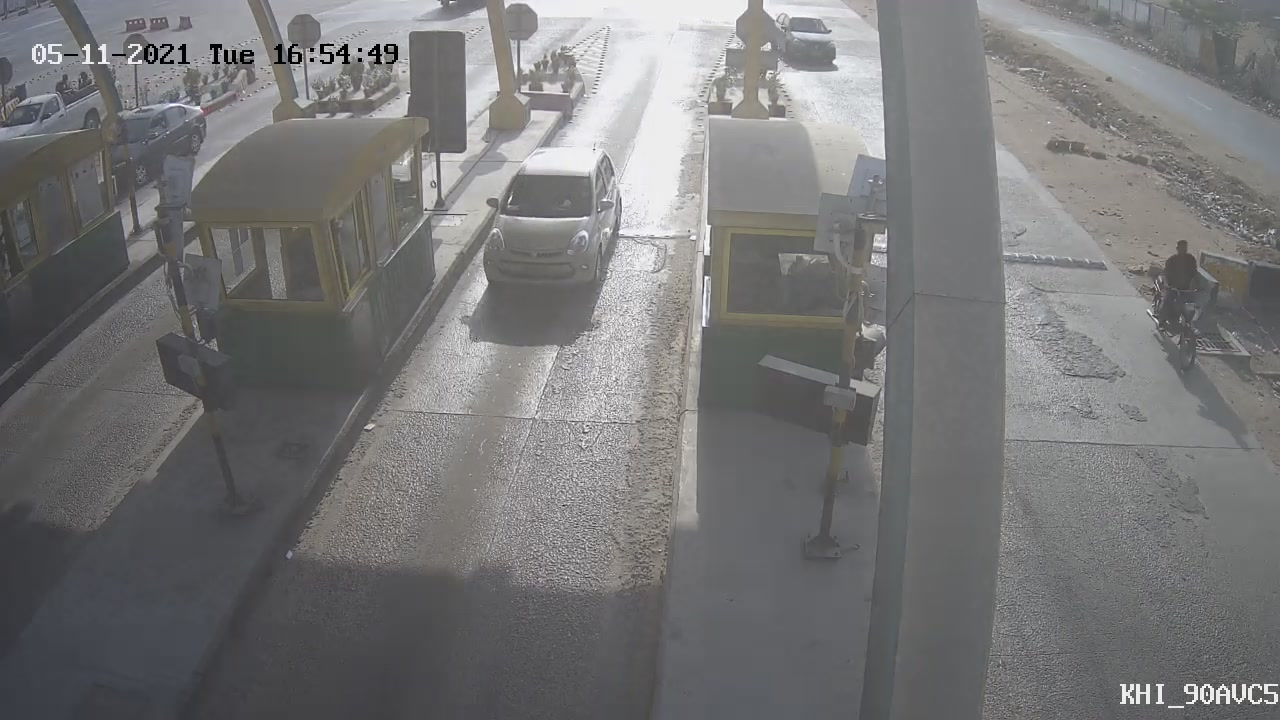F1: (460, 131, 642, 320)
